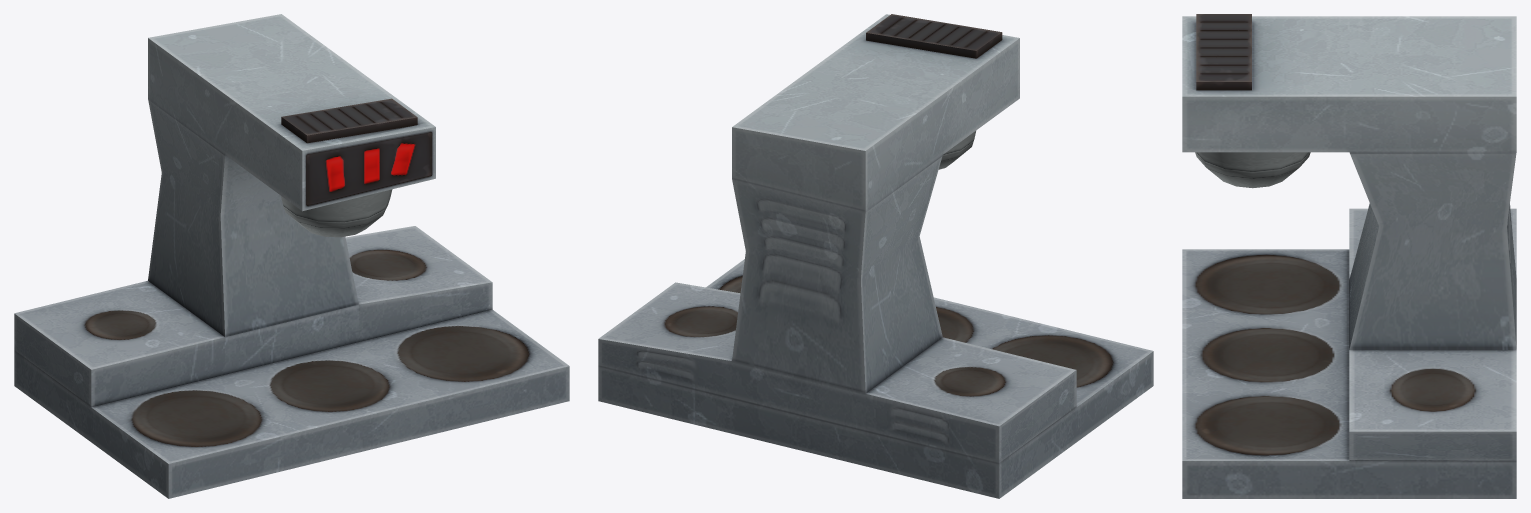
File: CafeCoffeeHeater01.FBX
3 views of the same model, side by side, from view 1: azimuth 30°, elevation 25°; view 2: azimuth 150°, elevation 25°; view 3: azimuth 270°, elevation 25° (orthographic). The views are drawn at different scales.
Visible parts, largest first — view 1: CafeCoffeeHeater01; view 2: CafeCoffeeHeater01; view 3: CafeCoffeeHeater01.
Part boxes in pixels (x1=…): CafeCoffeeHeater01: x1=14, y1=14, x2=569, y2=498; CafeCoffeeHeater01: x1=598, y1=14, x2=1153, y2=498; CafeCoffeeHeater01: x1=1182, y1=14, x2=1516, y2=498.
Size of what is drawn, in the model's own units: 0.75 by 0.5774 by 0.5.
